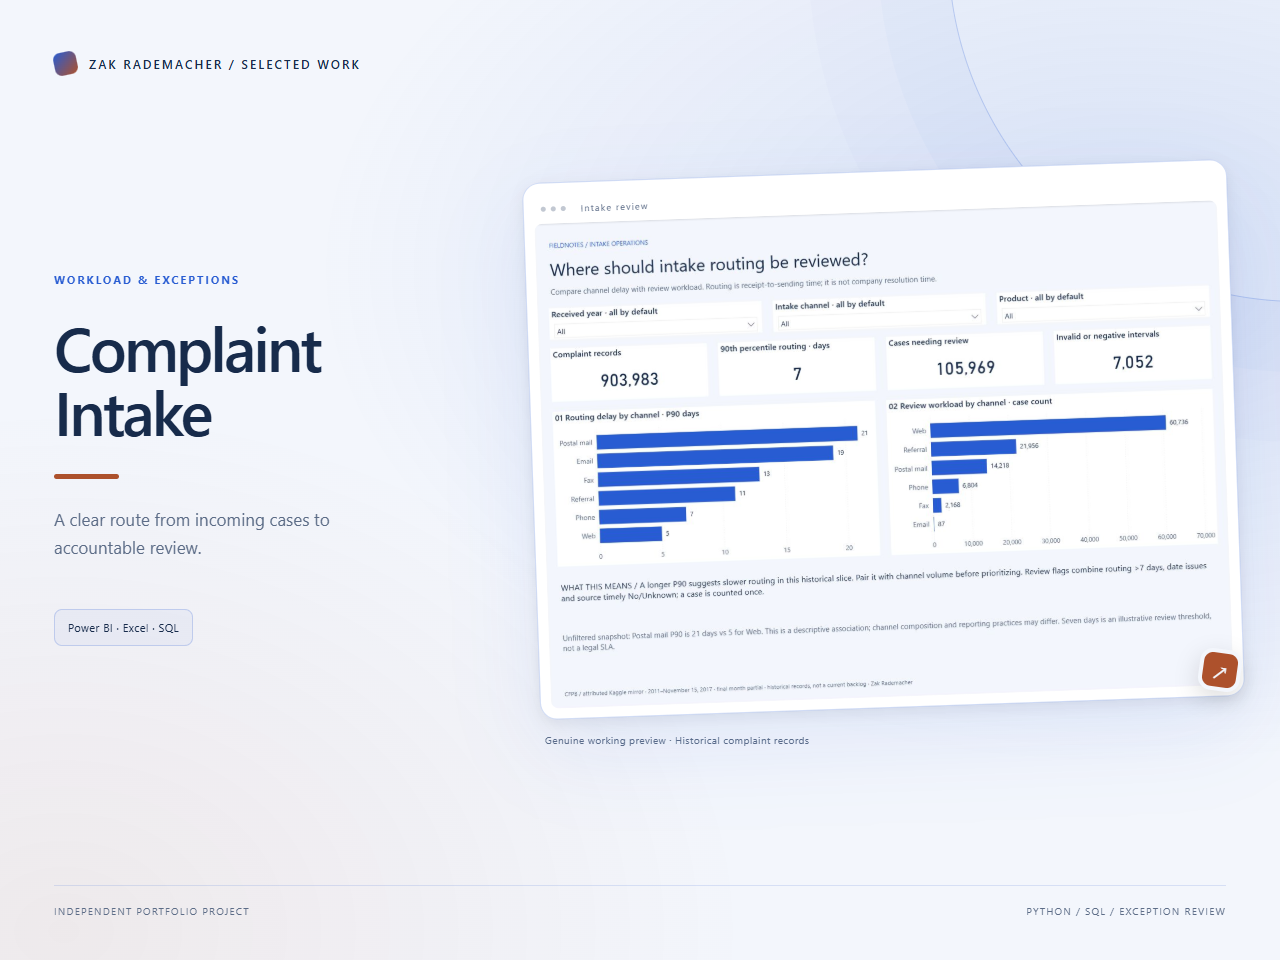

Layout of this report page (visuals, bound fields, positions):
{"tool":"powerbi","page":{"name":"01  Routing review","canvas":[1440,1000],"ordinal":0},"visuals":[{"type":"textbox","box":[24,12,1392,30],"z":0},{"type":"textbox","box":[24,46,1392,58],"z":0},{"type":"textbox","box":[24,107,1392,45],"z":0},{"type":"slicer","title":"Received year · all by default","fields":{"Values":["Cases.Year"]},"box":[24,158,448,66],"z":0},{"type":"slicer","title":"Intake channel · all by default","fields":{"Values":["Cases.Channel"]},"box":[496,158,448,66],"z":0},{"type":"slicer","title":"Product · all by default","fields":{"Values":["Cases.Product"]},"box":[968,158,448,66],"z":0},{"type":"card","title":"Complaint records","fields":{"Values":["Cases.Cases"]},"box":[24,242,330,112],"z":0},{"type":"card","title":"90th percentile routing · days","fields":{"Values":["Cases.P90 Routing Days"]},"box":[378,242,330,112],"z":0},{"type":"card","title":"Cases needing review","fields":{"Values":["Cases.Review Cases"]},"box":[732,242,330,112],"z":0},{"type":"card","title":"Invalid or negative intervals","fields":{"Values":["Cases.Date Issues"]},"box":[1086,242,330,112],"z":0},{"type":"clusteredBarChart","title":"01  Routing delay by channel · P90 days","fields":{"Category":["Cases.Channel"],"Y":["Cases.P90 Routing Days"]},"box":[24,376,680,326],"z":0},{"type":"clusteredBarChart","title":"02  Review workload by channel · case count","fields":{"Category":["Cases.Channel"],"Y":["Cases.Review Cases"]},"box":[728,376,688,326],"z":0},{"type":"textbox","box":[24,728,1392,88],"z":0},{"type":"textbox","box":[24,836,1392,76],"z":0},{"type":"textbox","box":[24,956,1392,32],"z":0}]}

Visuals, with their boxes on the page's 1440x1000 design canvas (x1, y1, x2, y2). These are canvas units, not pixel positions in the 1280x960 screenshot, which may show the page scaled, cropped or inside an application window:
textbox: BBox(24, 12, 1416, 42)
textbox: BBox(24, 46, 1416, 104)
textbox: BBox(24, 107, 1416, 152)
"Received year · all by default" slicer: BBox(24, 158, 472, 224)
"Intake channel · all by default" slicer: BBox(496, 158, 944, 224)
"Product · all by default" slicer: BBox(968, 158, 1416, 224)
"Complaint records" card: BBox(24, 242, 354, 354)
"90th percentile routing · days" card: BBox(378, 242, 708, 354)
"Cases needing review" card: BBox(732, 242, 1062, 354)
"Invalid or negative intervals" card: BBox(1086, 242, 1416, 354)
"01  Routing delay by channel · P90 days" clusteredBarChart: BBox(24, 376, 704, 702)
"02  Review workload by channel · case count" clusteredBarChart: BBox(728, 376, 1416, 702)
textbox: BBox(24, 728, 1416, 816)
textbox: BBox(24, 836, 1416, 912)
textbox: BBox(24, 956, 1416, 988)
